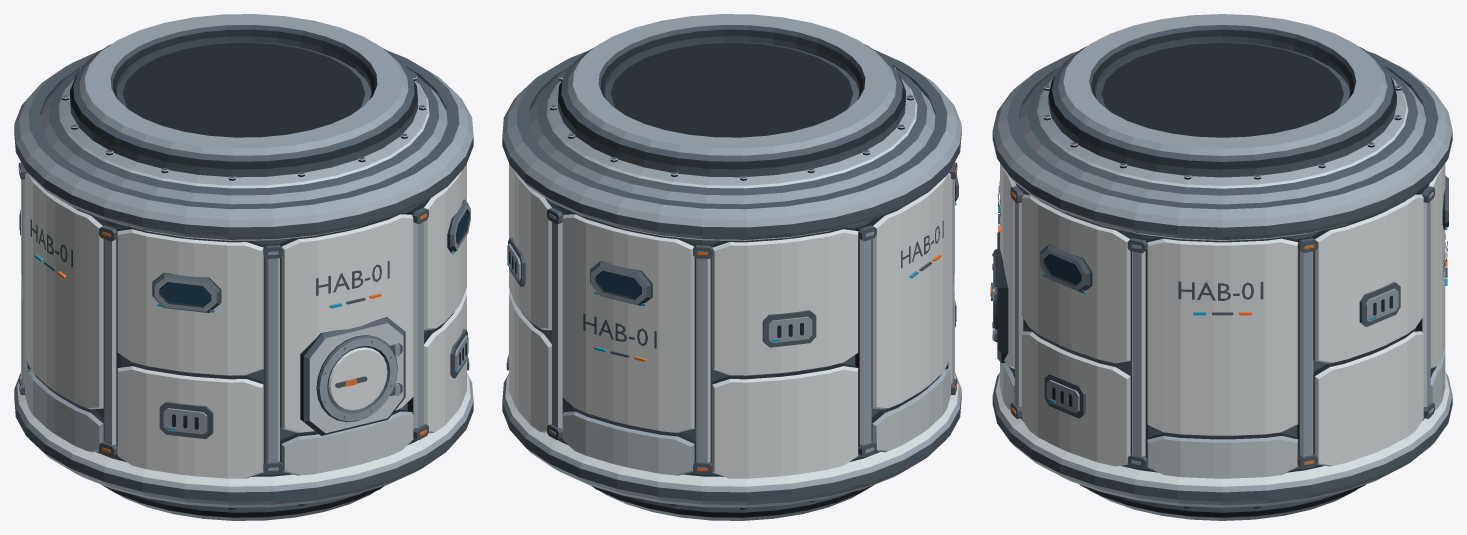
The model's file is modulo_habitable.glb.
The picture shows the model from 3 angles, left to right: view 1: azimuth 30°, elevation 25°; view 2: azimuth 150°, elevation 25°; view 3: azimuth 270°, elevation 25°; orthographic projection.
Parts seen in each view (by area): view 1: HAB | Brida anular superior, HAB | Paneles cerámicos sector 08, HAB | Anillo estructural superior, HAB | Paneles cerámicos sector 01, HAB | Tapa exterior ciega superior, HAB | Paneles cerámicos sector 07, HAB | Anillo estructural inferior, HAB | Largueros y cierres longitudinales, HAB | Casco presurizado exterior, HAB | Escotilla exterior y herrajes, HAB | Paneles cerámicos sector 02, HAB | Brida anular inferior (+4 smaller); view 2: HAB | Paneles cerámicos sector 06, HAB | Brida anular superior, HAB | Paneles cerámicos sector 05, HAB | Anillo estructural superior, HAB | Tapa exterior ciega superior, HAB | Paneles cerámicos sector 07, HAB | Anillo estructural inferior, HAB | Largueros y cierres longitudinales, HAB | Casco presurizado exterior, HAB | Paneles cerámicos sector 04, HAB | Brida anular inferior, HAB | Registros de mantenimiento (+2 smaller); view 3: HAB | Paneles cerámicos sector 03, HAB | Brida anular superior, HAB | Paneles cerámicos sector 04, HAB | Paneles cerámicos sector 02, HAB | Anillo estructural superior, HAB | Tapa exterior ciega superior, HAB | Anillo estructural inferior, HAB | Largueros y cierres longitudinales, HAB | Casco presurizado exterior, HAB | Paneles cerámicos sector 05, HAB | Brida anular inferior, HAB | Paneles cerámicos sector 01 (+4 smaller).
Part boxes in pixels (left/top/right/bottom): HAB | Brida anular superior: left=58, top=14, right=429, bottom=188; HAB | Paneles cerámicos sector 08: left=117, top=227, right=263, bottom=478; HAB | Anillo estructural superior: left=14, top=49, right=473, bottom=240; HAB | Paneles cerámicos sector 01: left=280, top=212, right=413, bottom=475; HAB | Tapa exterior ciega superior: left=116, top=42, right=371, bottom=137; HAB | Paneles cerámicos sector 07: left=25, top=173, right=108, bottom=452; HAB | Anillo estructural inferior: left=14, top=372, right=473, bottom=507; HAB | Largueros y cierres longitudinales: left=18, top=162, right=469, bottom=474; HAB | Casco presurizado exterior: left=40, top=68, right=447, bottom=474; HAB | Escotilla exterior y herrajes: left=300, top=317, right=405, bottom=435; HAB | Paneles cerámicos sector 02: left=417, top=164, right=466, bottom=433; HAB | Brida anular inferior: left=102, top=485, right=384, bottom=520; HAB | Paneles cerámicos sector 06: left=712, top=227, right=858, bottom=478; HAB | Brida anular superior: left=546, top=14, right=917, bottom=188; HAB | Paneles cerámicos sector 05: left=562, top=212, right=695, bottom=475; HAB | Anillo estructural superior: left=502, top=49, right=961, bottom=240; HAB | Tapa exterior ciega superior: left=604, top=42, right=859, bottom=137; HAB | Paneles cerámicos sector 07: left=867, top=173, right=950, bottom=452; HAB | Anillo estructural inferior: left=502, top=372, right=961, bottom=507; HAB | Largueros y cierres longitudinales: left=506, top=162, right=957, bottom=474; HAB | Casco presurizado exterior: left=528, top=68, right=935, bottom=474; HAB | Paneles cerámicos sector 04: left=509, top=164, right=558, bottom=433; HAB | Brida anular inferior: left=591, top=485, right=873, bottom=520; HAB | Registros de mantenimiento: left=507, top=237, right=956, bottom=347; HAB | Paneles cerámicos sector 03: left=1147, top=237, right=1298, bottom=478; HAB | Brida anular superior: left=1037, top=14, right=1408, bottom=188; HAB | Paneles cerámicos sector 04: left=1311, top=193, right=1423, bottom=466; HAB | Paneles cerámicos sector 02: left=1022, top=193, right=1133, bottom=466; HAB | Anillo estructural superior: left=992, top=51, right=1452, bottom=240; HAB | Tapa exterior ciega superior: left=1095, top=42, right=1349, bottom=137; HAB | Anillo estructural inferior: left=992, top=372, right=1452, bottom=507; HAB | Largueros y cierres longitudinales: left=1010, top=186, right=1434, bottom=468; HAB | Casco presurizado exterior: left=1019, top=66, right=1426, bottom=469; HAB | Paneles cerámicos sector 05: left=1425, top=163, right=1445, bottom=409; HAB | Brida anular inferior: left=1079, top=484, right=1365, bottom=520; HAB | Paneles cerámicos sector 01: left=1000, top=163, right=1020, bottom=409.
Bounding box in the file's own units: 2.8 × 2.5 × 2.81.
